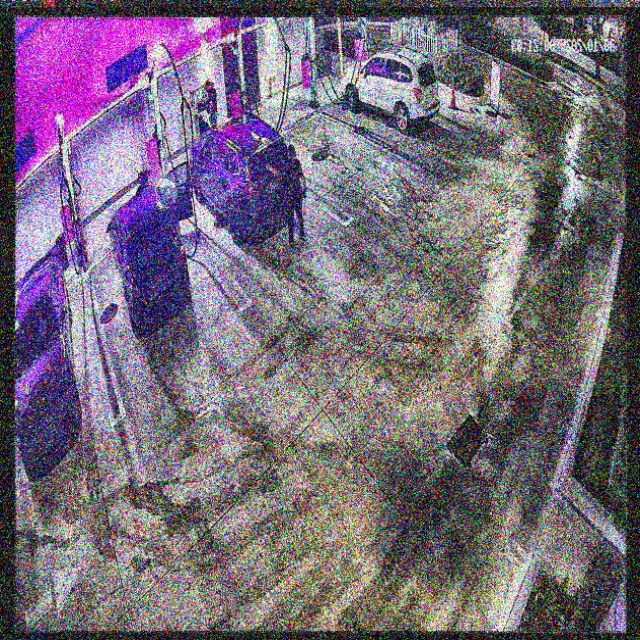Car: (190, 112, 295, 240), (111, 181, 190, 328)
